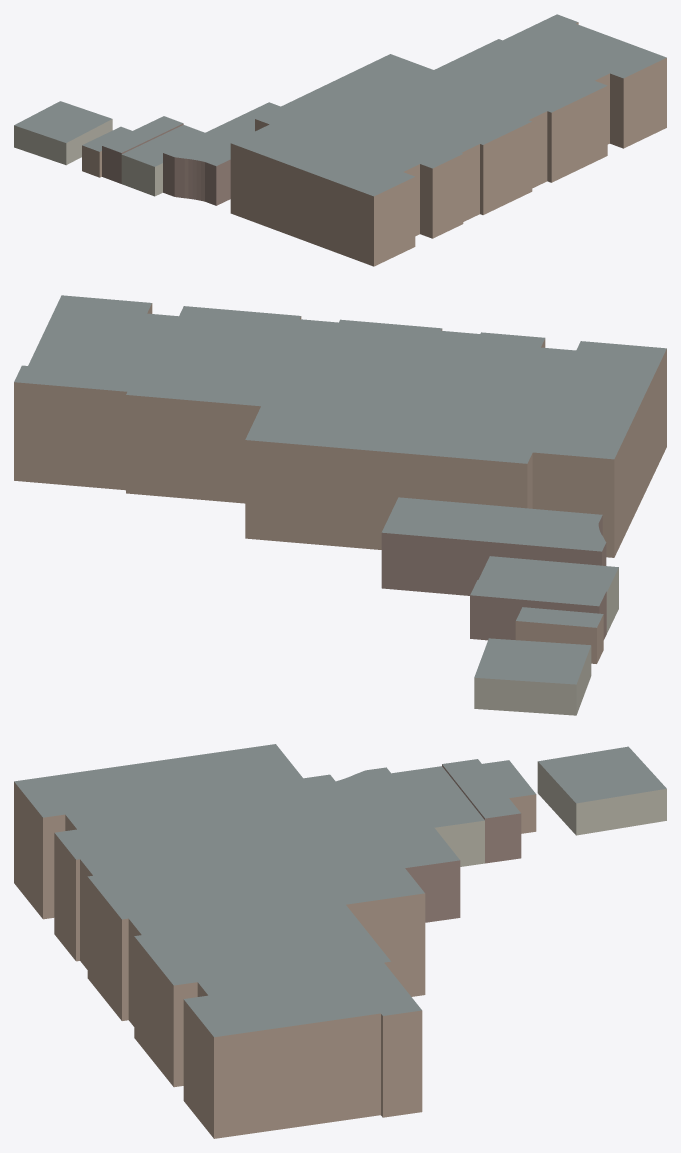
The model's file is context-2--2.gltf.
The picture shows the model from 3 angles, top to bottom: view 1: azimuth 30°, elevation 25°; view 2: azimuth 150°, elevation 25°; view 3: azimuth 270°, elevation 25°; orthographic projection. The views are drawn at different scales.
Visible parts, largest first — view 1: context-2--2; view 2: context-2--2; view 3: context-2--2.
Boxes of the visible parts, box(x1,y1,x2,y2) form: context-2--2: box(14, 14, 666, 266); context-2--2: box(14, 295, 666, 715); context-2--2: box(14, 744, 666, 1138).
Size of the model in its own units: 152 by 19.94 by 116.
